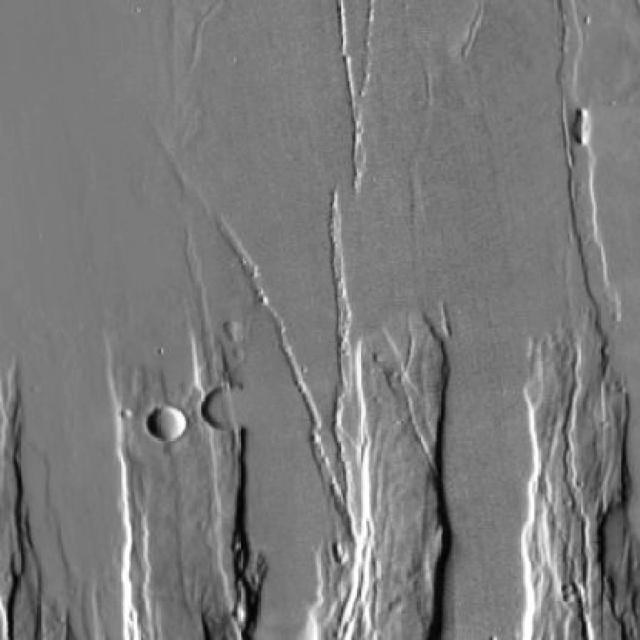crater: (204, 388, 253, 430), (147, 405, 188, 441)
